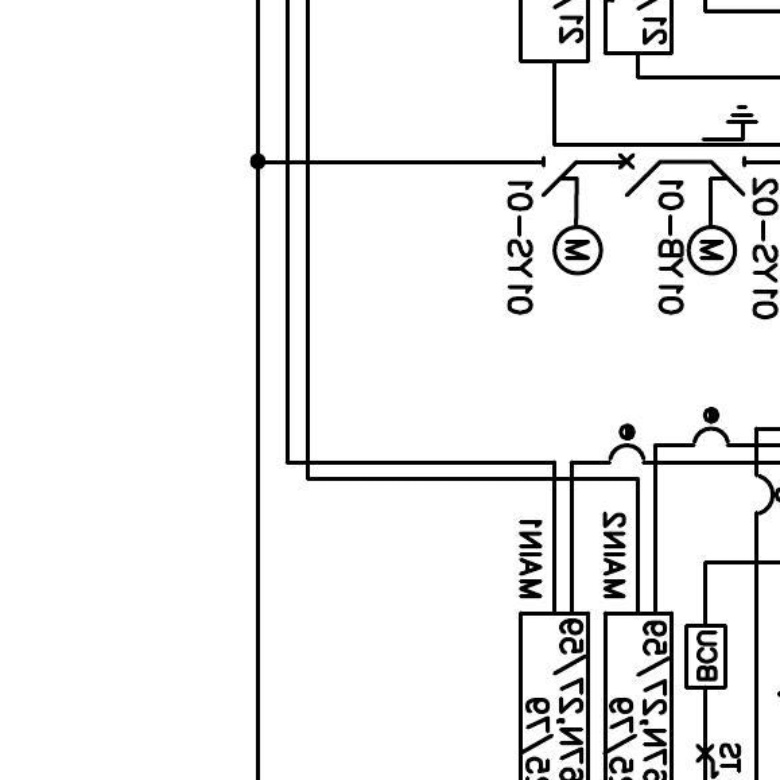115_1way_ds_w_motor: (541, 155, 604, 277)
115_3ways_ds_w_motor: (686, 104, 759, 277)
115_breaker: (618, 153, 662, 197)
BCU: (684, 623, 728, 691)
